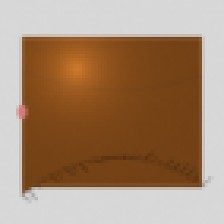pinguecula_lesion: (43, 108, 73, 132)
